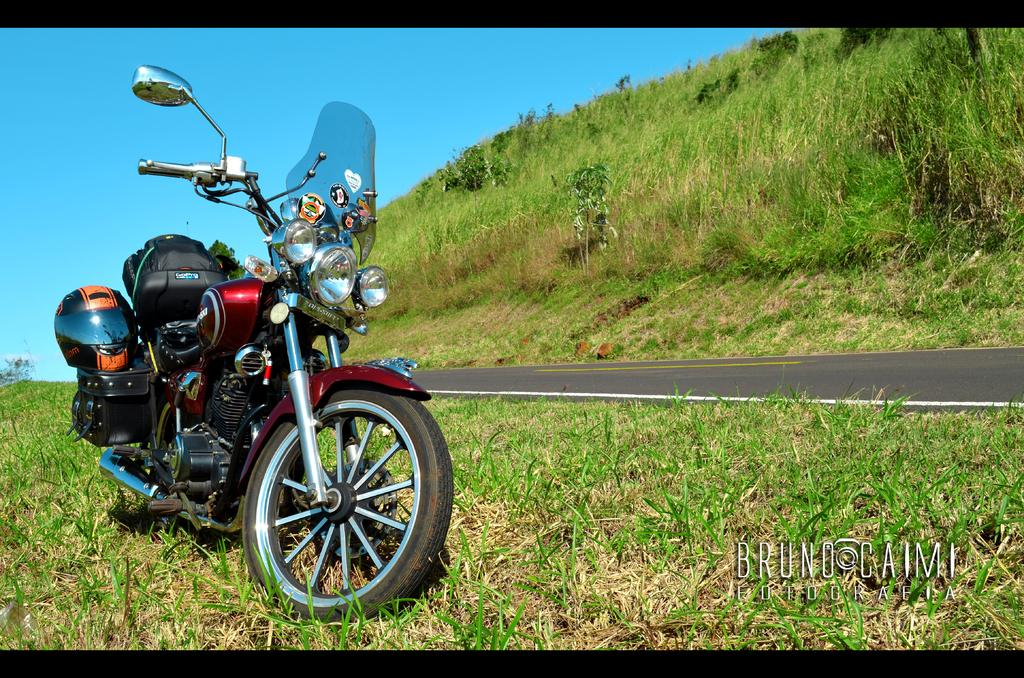helmet: (54, 285, 139, 373)
